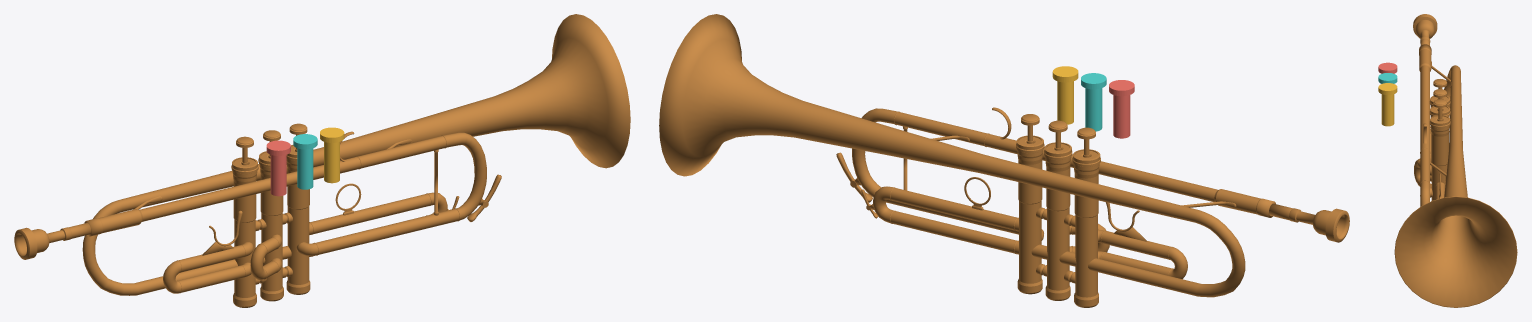
Rendered from trumpet.glb.
The picture shows the model from 3 angles, left to right: view 1: azimuth 30°, elevation 25°; view 2: azimuth 150°, elevation 25°; view 3: azimuth 270°, elevation 25°; orthographic projection. The views are drawn at different scales.
Parts seen in each view (by area): view 1: Cylinder, Cylinder.001, Cylinder.005, Cylinder.006, Cylinder.014, Cylinder.003, Cylinder.034, Cylinder.002, AnimatedValve2_Stem, AnimatedValve1_Stem, AnimatedValve3_Stem, Cylinder.013; view 2: Cylinder, Cylinder.001, Cylinder.006, Cylinder.005, Cylinder.014, Cylinder.034, Cylinder.002, AnimatedValve1_Stem, AnimatedValve2_Stem, AnimatedValve3_Stem, Cylinder.013, Cylinder.004; view 3: Cylinder, Cylinder.014, AnimatedValve3_Stem, Cylinder.002, Cylinder.001, Cylinder.034, Cylinder.033, Cylinder.004, AnimatedValve3_Cap, AnimatedValve1_Cap, AnimatedValve2_Cap, Cylinder.003 (+5 smaller).
Part boxes in pixels (left/top/right/bottom): Cylinder: left=82, top=14, right=630, bottom=295; Cylinder.001: left=233, top=161, right=309, bottom=297; Cylinder.005: left=163, top=242, right=253, bottom=293; Cylinder.006: left=309, top=192, right=447, bottom=256; Cylinder.014: left=233, top=168, right=309, bottom=222; Cylinder.003: left=250, top=234, right=281, bottom=279; Cylinder.034: left=84, top=209, right=141, bottom=236; Cylinder.002: left=20, top=227, right=64, bottom=259; AnimatedValve2_Stem: left=297, top=148, right=313, bottom=189; AnimatedValve1_Stem: left=270, top=155, right=286, bottom=196; AnimatedValve3_Stem: left=324, top=142, right=339, bottom=183; Cylinder.013: left=233, top=283, right=310, bottom=306; Cylinder: left=659, top=14, right=1245, bottom=297; Cylinder.001: left=1018, top=153, right=1098, bottom=297; Cylinder.006: left=873, top=186, right=1018, bottom=254; Cylinder.005: left=1098, top=229, right=1187, bottom=279; Cylinder.014: left=1018, top=160, right=1098, bottom=217; Cylinder.034: left=1215, top=189, right=1275, bottom=217; Cylinder.002: left=1296, top=208, right=1343, bottom=241; AnimatedValve1_Stem: left=1113, top=95, right=1130, bottom=138; AnimatedValve2_Stem: left=1085, top=88, right=1102, bottom=131; AnimatedValve3_Stem: left=1057, top=81, right=1073, bottom=124; Cylinder.013: left=1017, top=282, right=1098, bottom=306; Cylinder.004: left=1018, top=137, right=1098, bottom=159; Cylinder: left=1394, top=65, right=1517, bottom=307; Cylinder.014: left=1431, top=134, right=1448, bottom=165; AnimatedValve3_Stem: left=1381, top=94, right=1394, bottom=126; Cylinder.002: left=1413, top=14, right=1437, bottom=38; Cylinder.001: left=1431, top=128, right=1449, bottom=200; Cylinder.034: left=1419, top=44, right=1431, bottom=67; Cylinder.033: left=1433, top=79, right=1446, bottom=105; Cylinder.004: left=1431, top=96, right=1448, bottom=122; AnimatedValve3_Cap: left=1378, top=83, right=1397, bottom=94; AnimatedValve1_Cap: left=1378, top=62, right=1397, bottom=73; AnimatedValve2_Cap: left=1378, top=73, right=1397, bottom=83; Cylinder.003: left=1414, top=158, right=1431, bottom=187.
Bounding box in the file's own units: 8.93 × 2.74 × 2.34.
